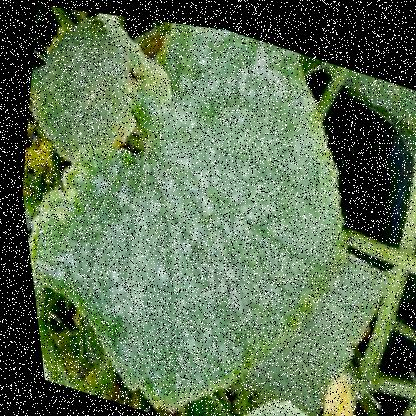PowderyMildew: (29, 152, 260, 335), (150, 62, 304, 232)
